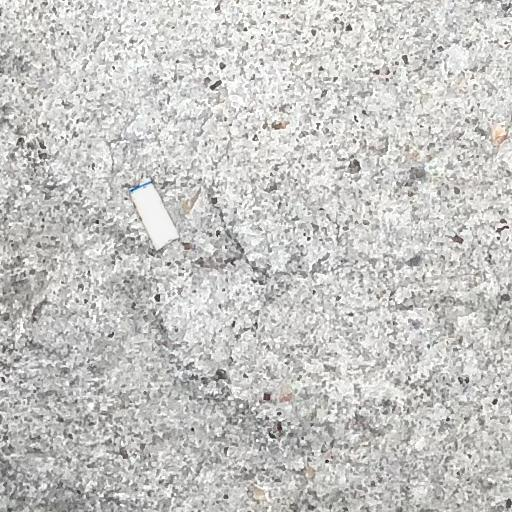smoke: (130, 177, 178, 249)
